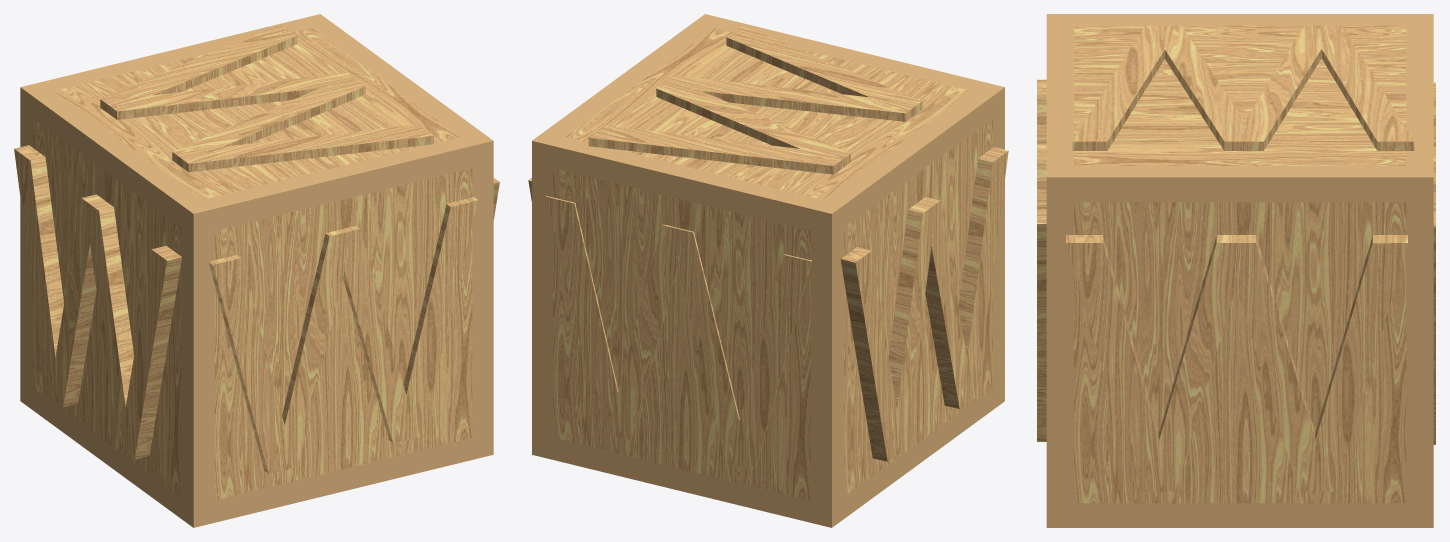
The model's file is block-w.fbx.
3 renders of one model, left to right at view 1: azimuth 30°, elevation 25°; view 2: azimuth 150°, elevation 25°; view 3: azimuth 270°, elevation 25°, orthographic. The views are drawn at different scales.
Parts seen in each view (by area): view 1: Box, FRONT, LEFT, TOP; view 2: Box, LEFT, BACK, TOP; view 3: Box, RIGHT, TOP, FRONT, BACK.
Part boxes in pixels (bbox=[...]): Box: bbox=[20, 14, 493, 527]; FRONT: bbox=[208, 197, 477, 473]; LEFT: bbox=[14, 145, 181, 459]; TOP: bbox=[100, 23, 433, 172]; Box: bbox=[532, 14, 1004, 527]; LEFT: bbox=[840, 147, 1008, 461]; BACK: bbox=[546, 196, 811, 470]; TOP: bbox=[588, 26, 922, 174]; Box: bbox=[1046, 14, 1433, 527]; RIGHT: bbox=[1066, 235, 1407, 491]; TOP: bbox=[1072, 25, 1414, 150]; FRONT: bbox=[1037, 79, 1046, 441]; BACK: bbox=[1433, 82, 1435, 444].
Size of the model in its own units: 1.1 by 1.04 by 1.03.
Materials: 2 (2 with a texture image).
